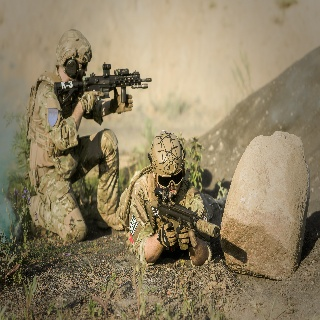rifle: (51, 62, 154, 119), (150, 199, 220, 255)
